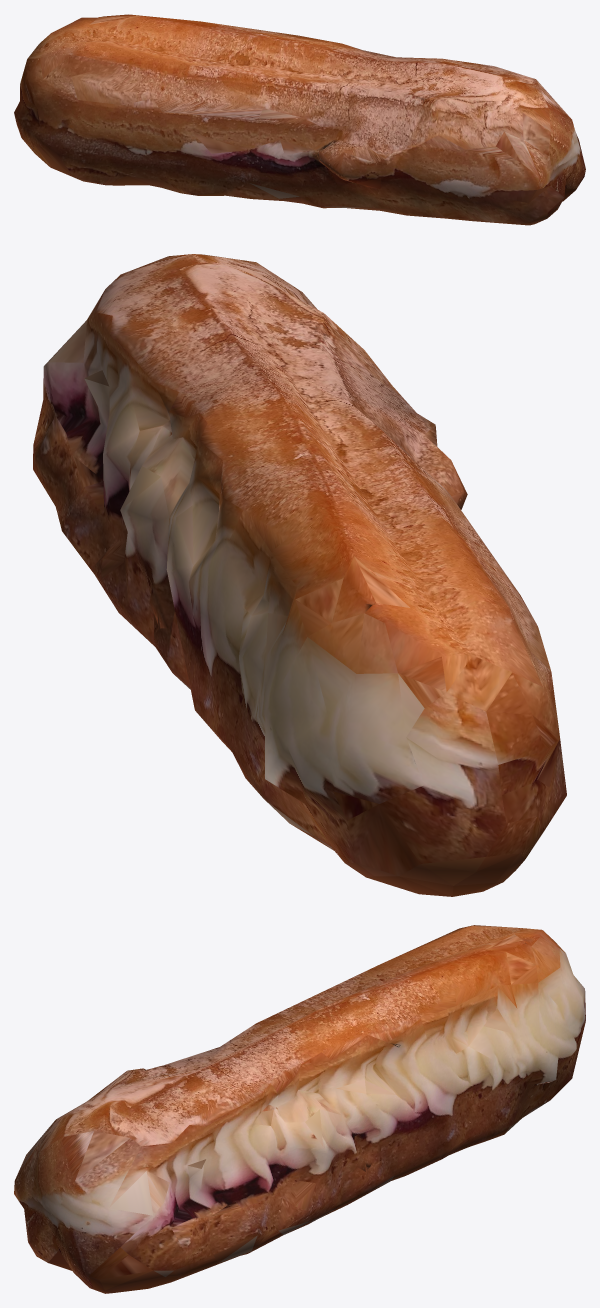
Rendered from eclaire_874.obj.
The picture shows the model from 3 angles, top to bottom: view 1: azimuth 30°, elevation 25°; view 2: azimuth 150°, elevation 25°; view 3: azimuth 270°, elevation 25°; orthographic projection. The views are drawn at different scales.
Bounding box in the file's own units: 93.9 × 31.52 × 91.11.
1 material, 1 textured.
